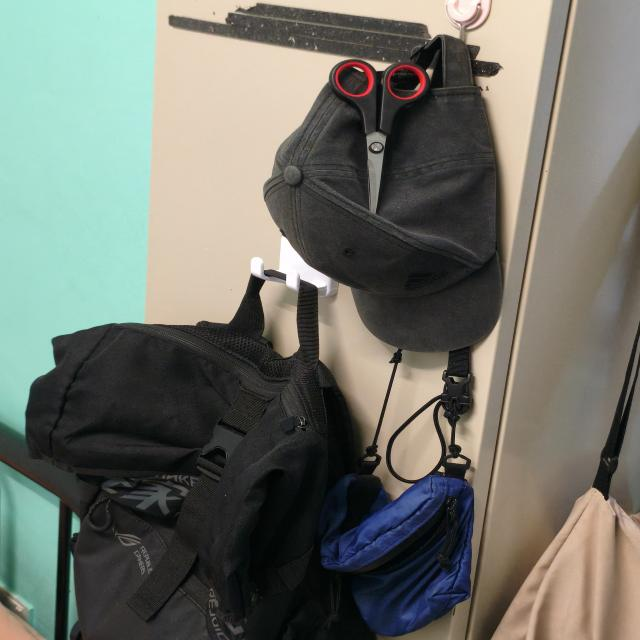scissor: (329, 59, 429, 213)
